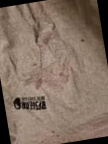wine: (26, 65, 68, 95), (37, 29, 58, 52), (75, 37, 86, 46), (50, 129, 59, 137)
